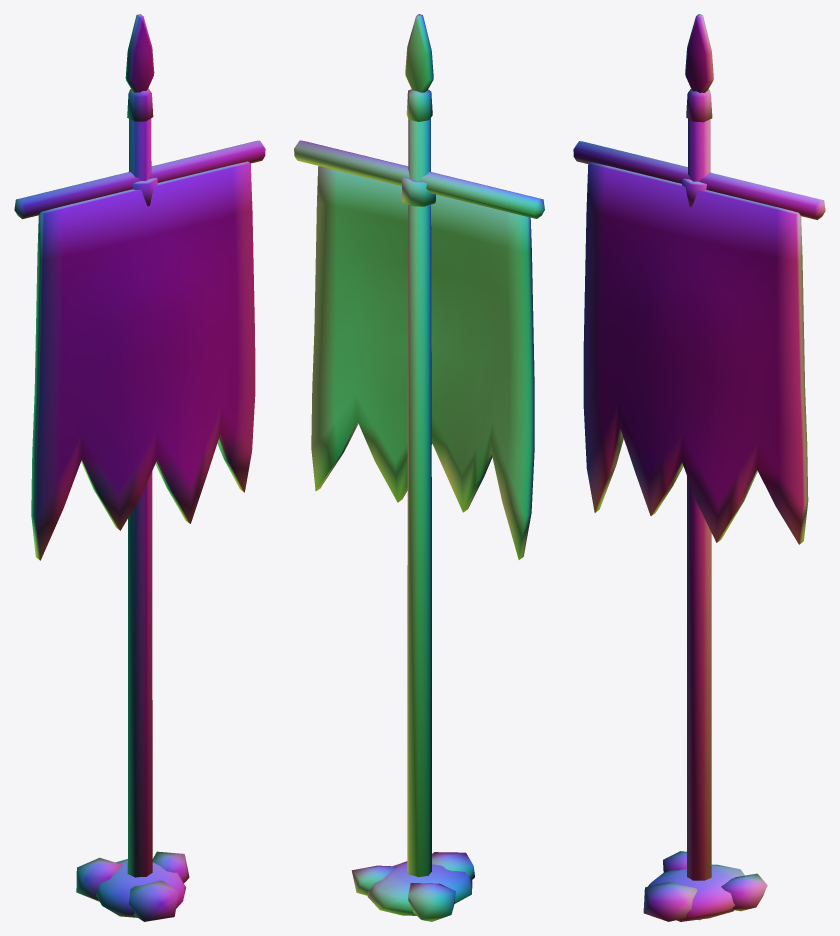
File: SM_Prop_March_RingBanner_A.fbx
The picture shows the model from 3 angles, left to right: view 1: azimuth 30°, elevation 25°; view 2: azimuth 150°, elevation 25°; view 3: azimuth 330°, elevation 25°; orthographic projection.
Parts seen in each view (by area): view 1: SM_Prop_March_RingBanner_A; view 2: SM_Prop_March_RingBanner_A; view 3: SM_Prop_March_RingBanner_A.
Boxes of the visible parts, <box> form: SM_Prop_March_RingBanner_A: <box>14,14,265,921</box>; SM_Prop_March_RingBanner_A: <box>294,14,544,921</box>; SM_Prop_March_RingBanner_A: <box>573,14,825,921</box>.
Bounding box in the file's own units: 0.8914 × 3.06 × 0.3777.
